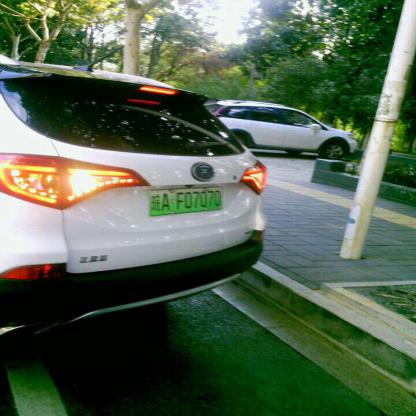lp: (149, 188, 222, 214)
